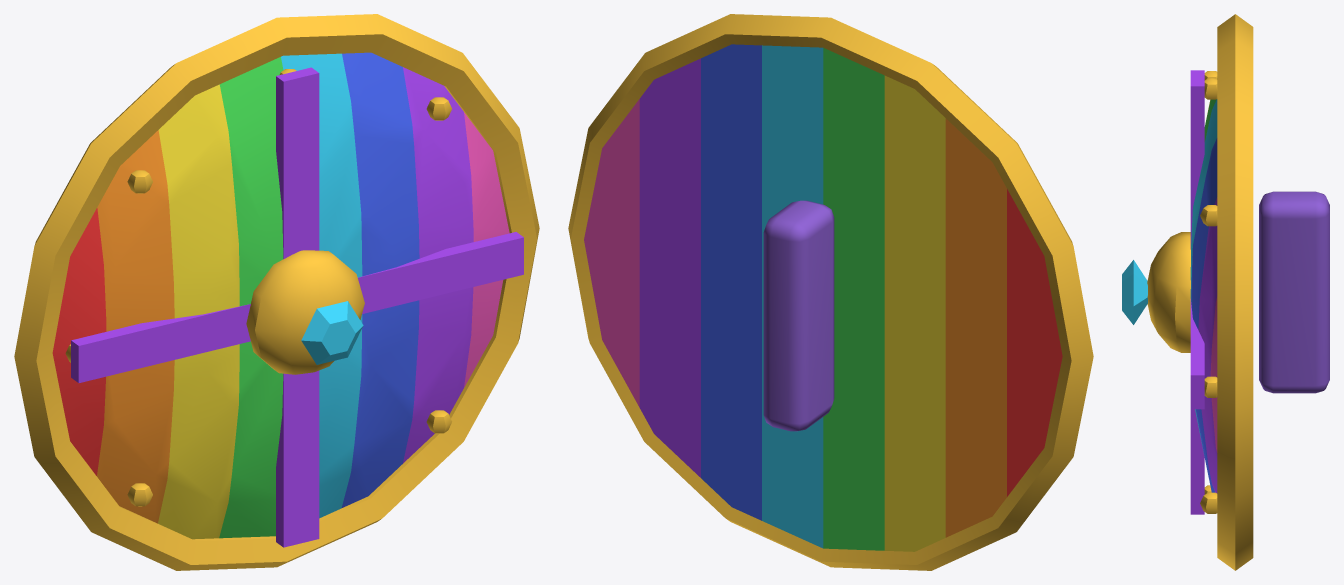
File: RainbowShield.fbx
The picture shows the model from 3 angles, left to right: view 1: azimuth 30°, elevation 25°; view 2: azimuth 150°, elevation 25°; view 3: azimuth 270°, elevation 25°; orthographic projection. The views are drawn at different scales.
Parts seen in each view (by area): view 1: RainbowShield; view 2: RainbowShield; view 3: RainbowShield.
Part boxes in pixels (bbox=[...]): RainbowShield: bbox=[14, 14, 539, 570]; RainbowShield: bbox=[568, 14, 1093, 570]; RainbowShield: bbox=[1122, 14, 1329, 570].
Size of the model in its own units: 2.36 by 2.36 by 0.88.
Materials: 1 (1 with a texture image).
